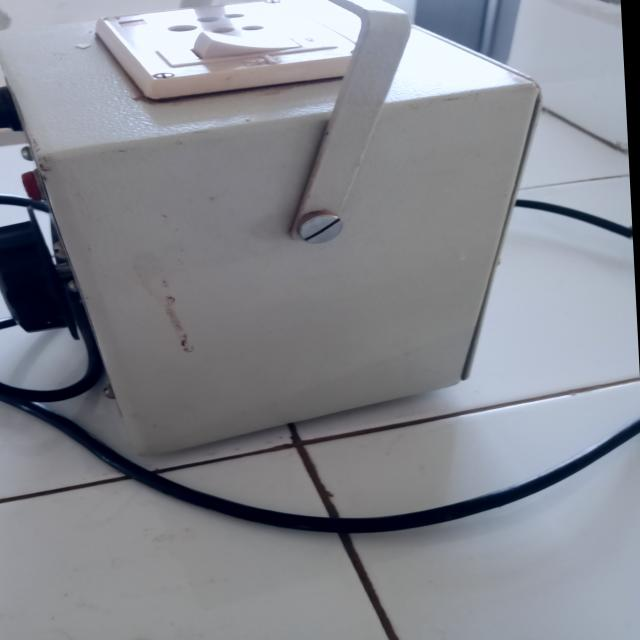Auto Variac AC Transformer 0-280 V: (0, 0, 554, 450)
